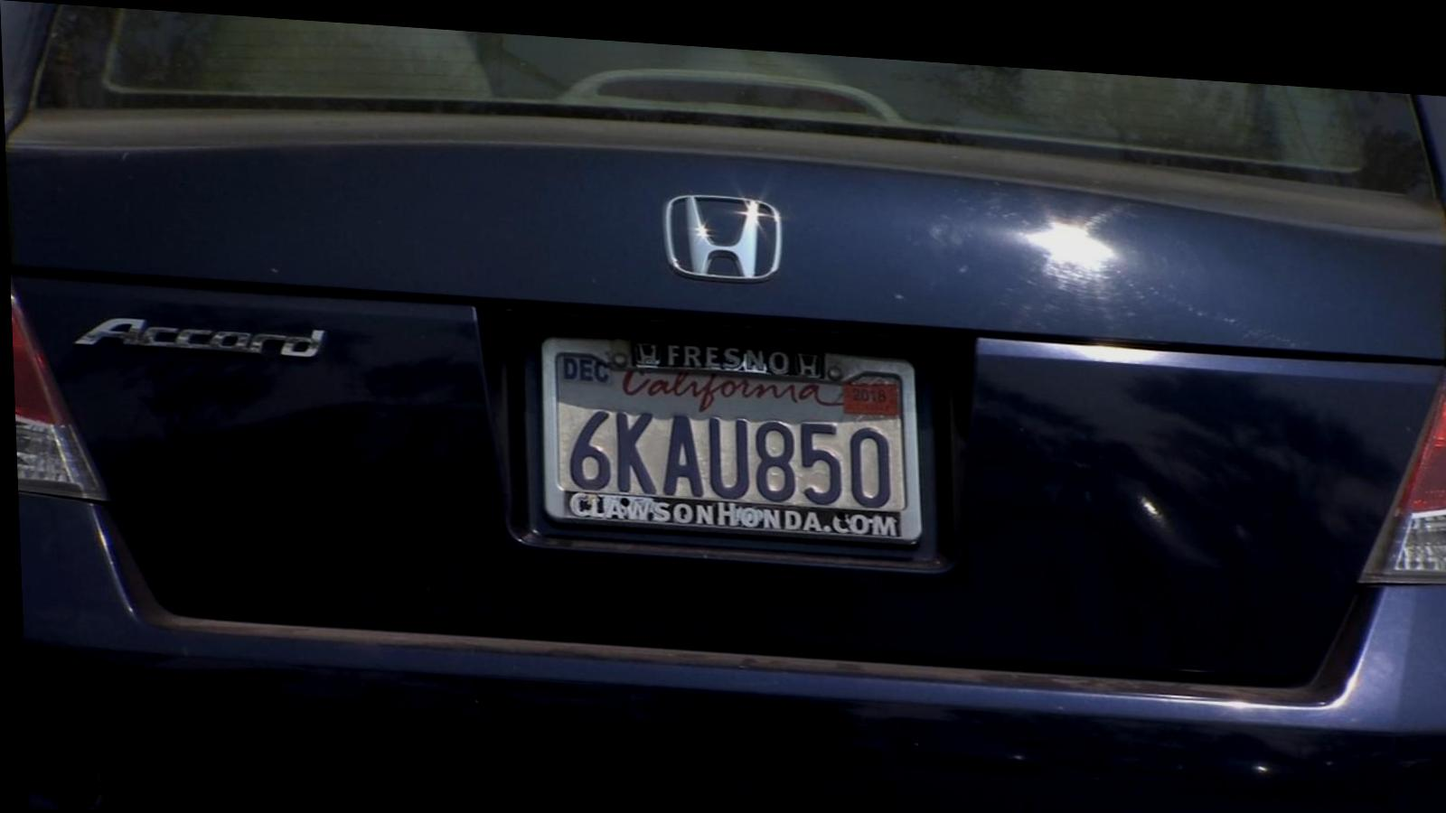License_Plate: (507, 303, 958, 596)
